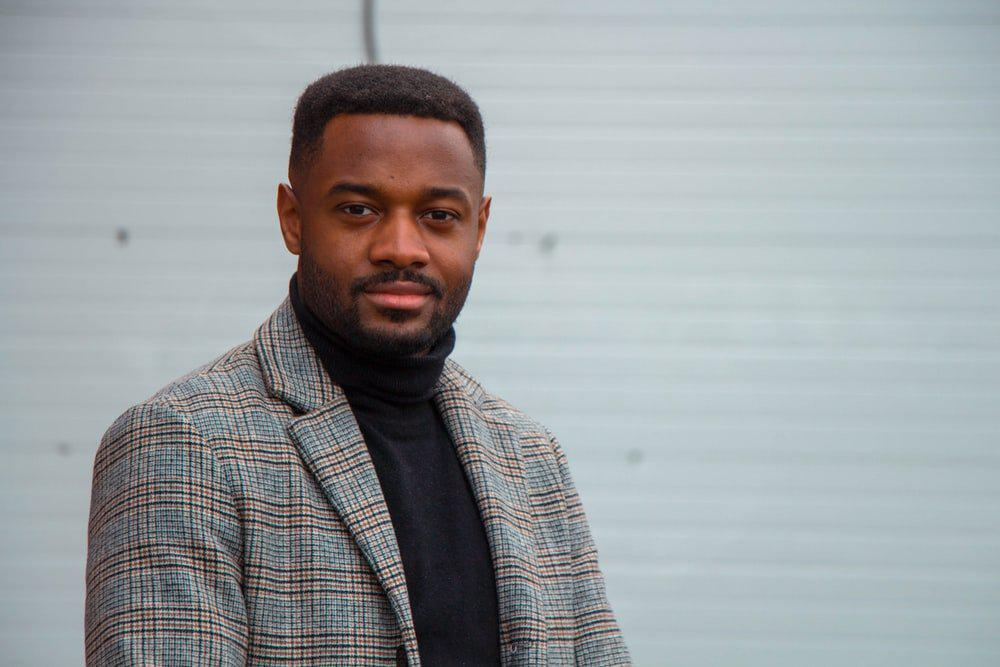Sober: (323, 122, 471, 338)
